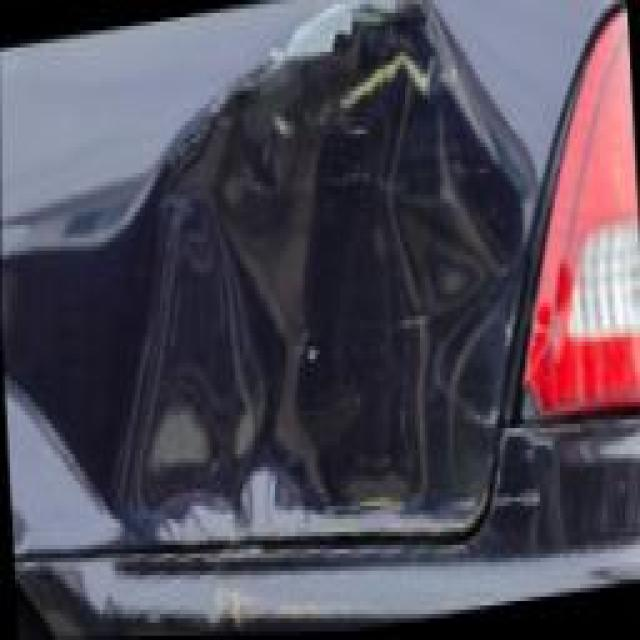Dickey: (0, 0, 507, 610)
Light: (512, 264, 591, 425)
